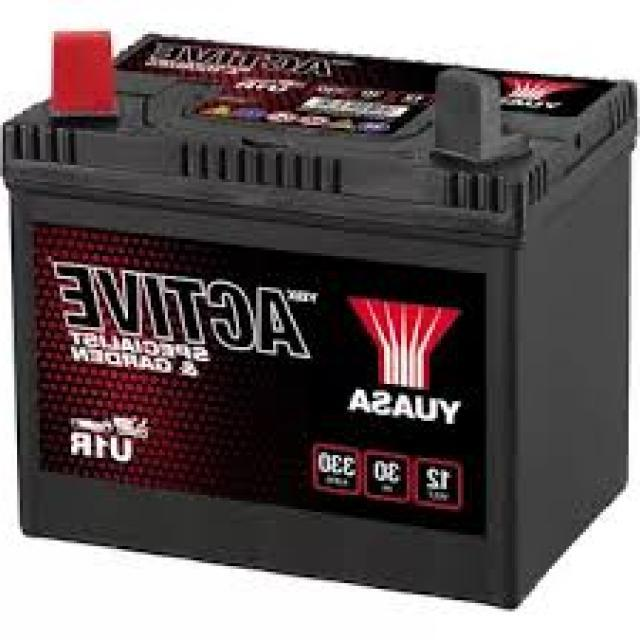battery: (0, 23, 631, 606)
